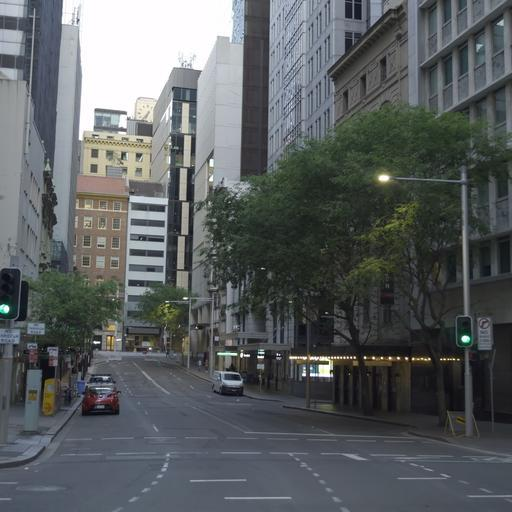Street light: (376, 168, 475, 437), (259, 264, 311, 407), (182, 284, 218, 376), (164, 296, 190, 367), (376, 171, 466, 185)
